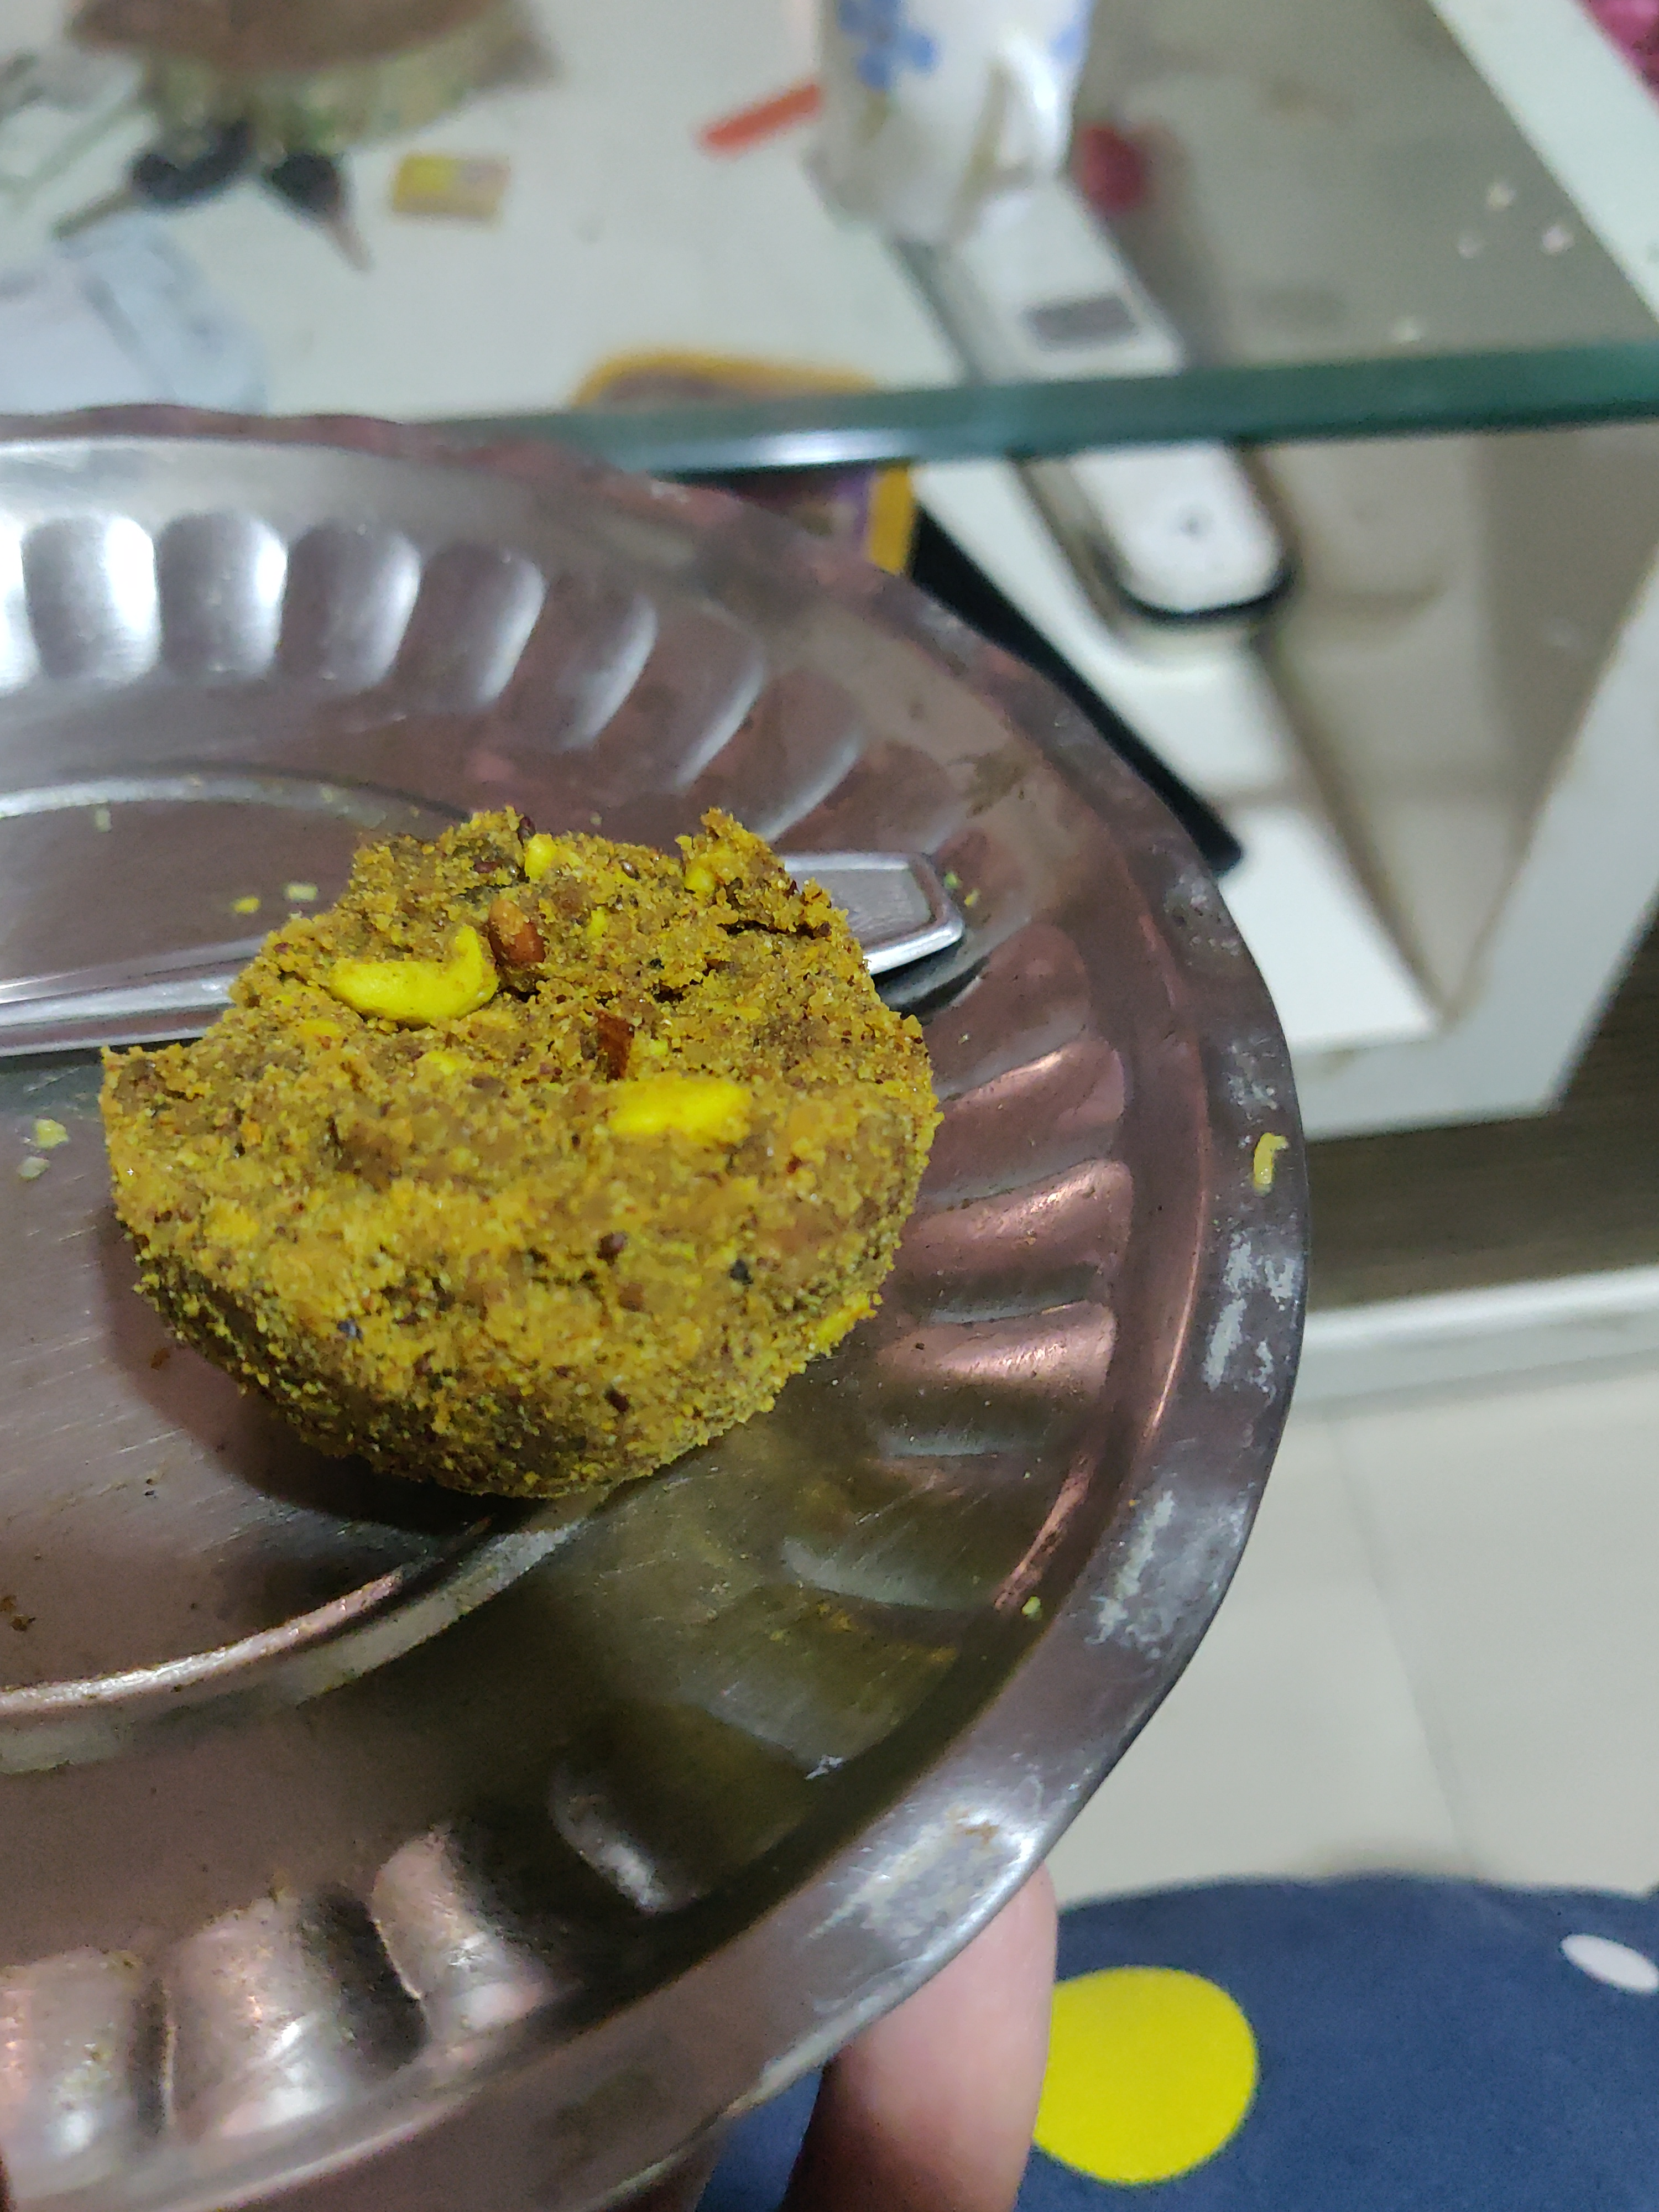food: (86, 790, 948, 1512)
